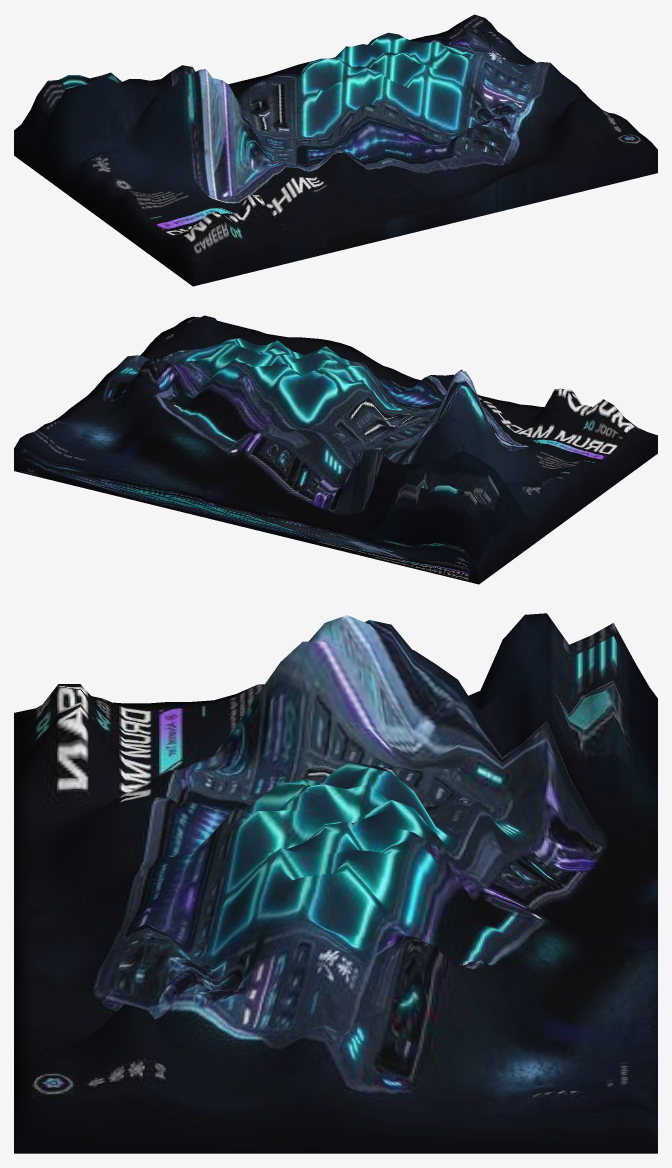
The model's file is CAREER_04_Tool_04_Drum_Machine.glb.
3 renders of one model, top to bottom at view 1: azimuth 30°, elevation 25°; view 2: azimuth 150°, elevation 25°; view 3: azimuth 270°, elevation 25°, orthographic. The views are drawn at different scales.
Visible parts, largest first — view 1: CAREER_04_Tool_04_Drum_Machine; view 2: CAREER_04_Tool_04_Drum_Machine; view 3: CAREER_04_Tool_04_Drum_Machine.
Boxes of the visible parts, x1=… form: CAREER_04_Tool_04_Drum_Machine: x1=14, y1=14, x2=657, y2=286; CAREER_04_Tool_04_Drum_Machine: x1=14, y1=315, x2=657, y2=584; CAREER_04_Tool_04_Drum_Machine: x1=14, y1=613, x2=657, y2=1153.
Bounding box in the file's own units: 2 × 0.51 × 1.33.
Materials: 1 (1 with a texture image).
